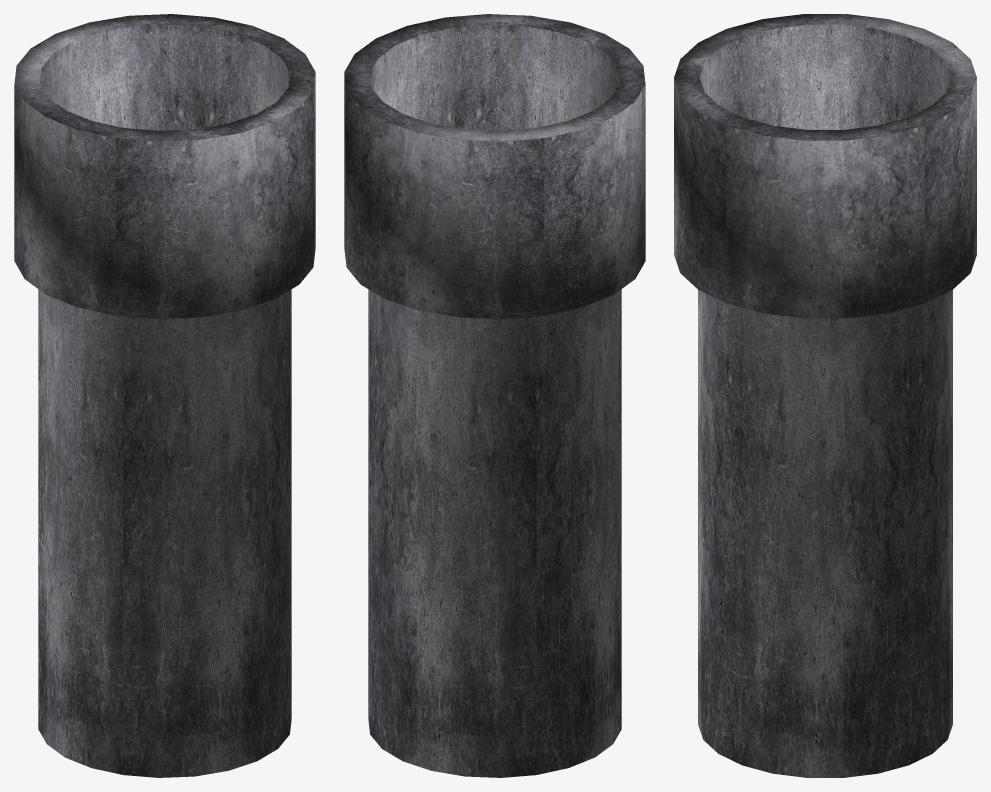
Rendered from Pipe.fbx.
3 renders of one model, left to right at view 1: azimuth 30°, elevation 25°; view 2: azimuth 150°, elevation 25°; view 3: azimuth 270°, elevation 25°, orthographic.
Parts seen in each view (by area): view 1: Cylinder; view 2: Cylinder; view 3: Cylinder.
Boxes of the visible parts, bbox=[...] form: Cylinder: bbox=[14, 14, 315, 777]; Cylinder: bbox=[344, 14, 645, 777]; Cylinder: bbox=[674, 14, 976, 777].
Bounding box in the file's own units: 235 × 561 × 238.
